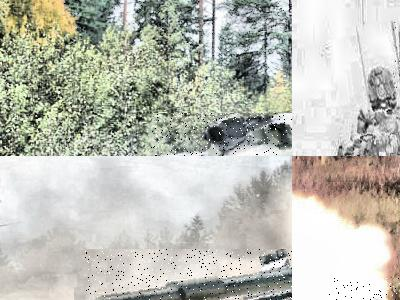tanks: (120, 251, 293, 300), (351, 70, 400, 154), (204, 117, 293, 157), (394, 22, 400, 89)
